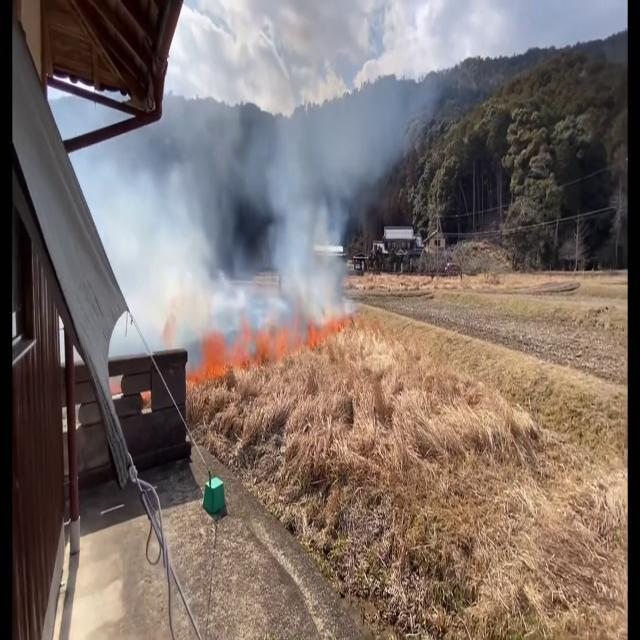Fire: (193, 302, 380, 389)
Smoke: (127, 38, 426, 343)
